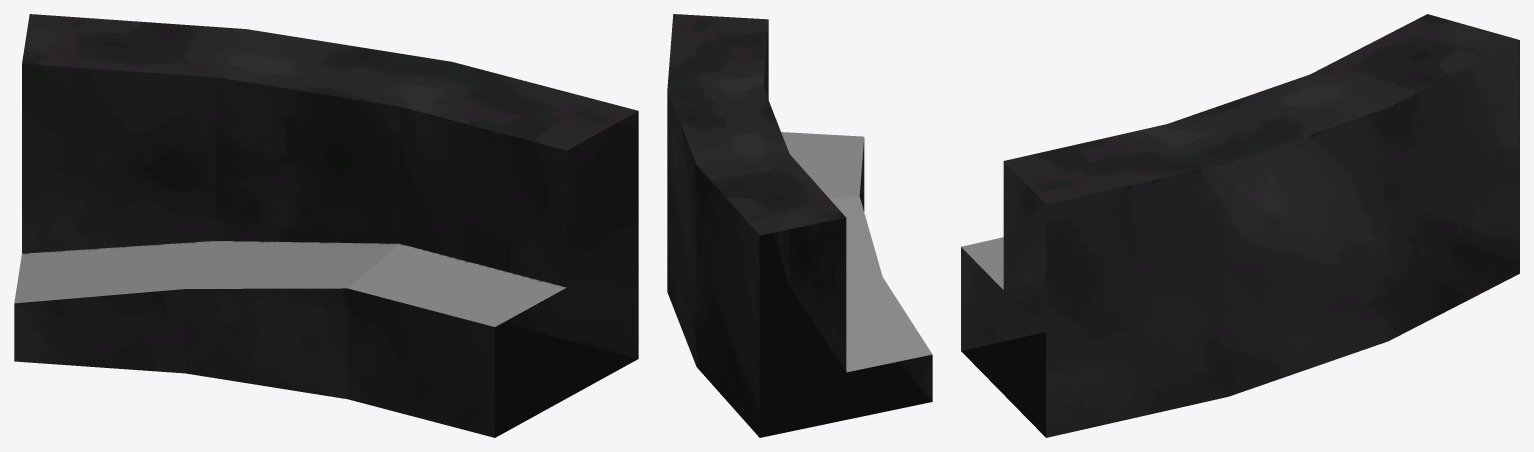
File: top_02.obj
The picture shows the model from 3 angles, left to right: view 1: azimuth 30°, elevation 25°; view 2: azimuth 150°, elevation 25°; view 3: azimuth 270°, elevation 25°; orthographic projection. The views are drawn at different scales.
Parts seen in each view (by area): view 1: Cylinder.043; view 2: Cylinder.043; view 3: Cylinder.043.
Boxes of the visible parts, <box> form: Cylinder.043: <box>14,14,638,437</box>; Cylinder.043: <box>667,14,932,437</box>; Cylinder.043: <box>961,14,1519,437</box>.
Bounding box in the file's own units: 18.7 × 9.41 × 20.4.
